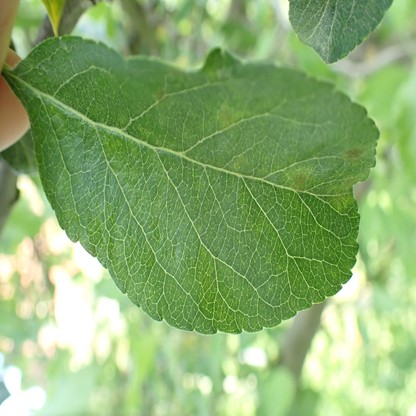scab: (217, 104, 251, 130), (330, 179, 355, 203), (290, 166, 310, 193), (337, 146, 367, 159), (156, 89, 169, 101)
